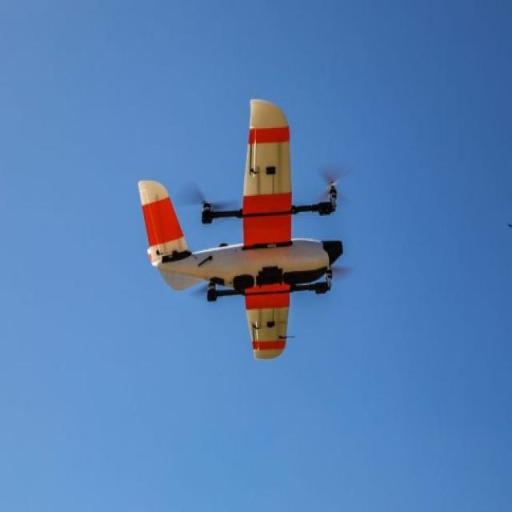uav: (128, 93, 356, 370)
